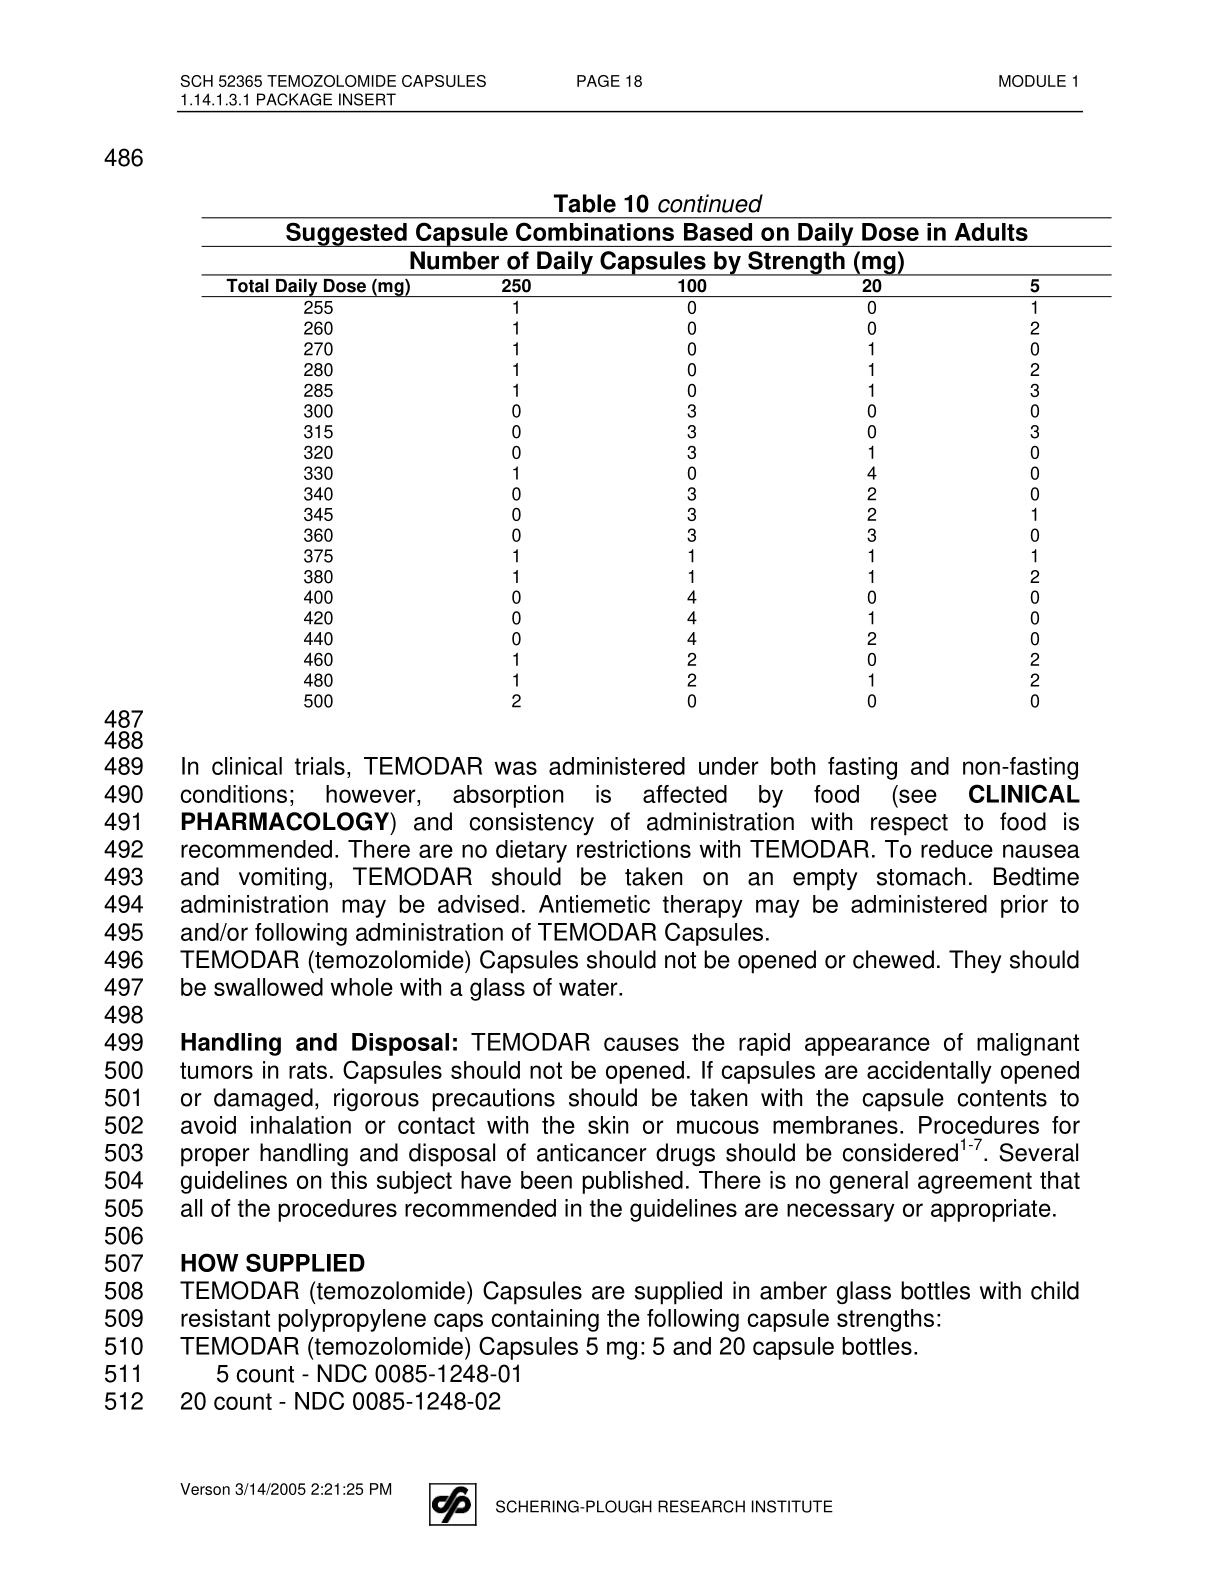partial_lined_merged_cells: (201, 213, 1115, 708)
